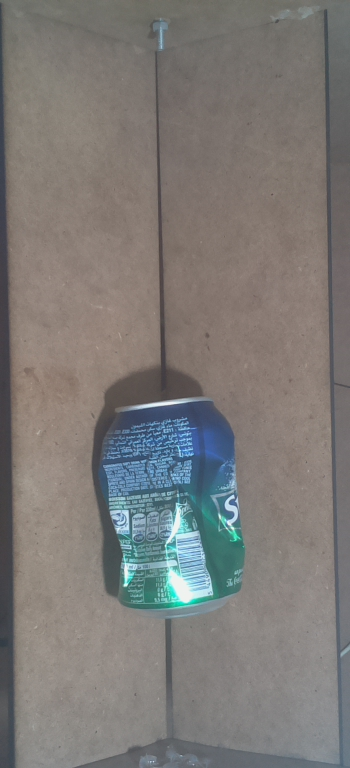Canette: (88, 389, 252, 626)
